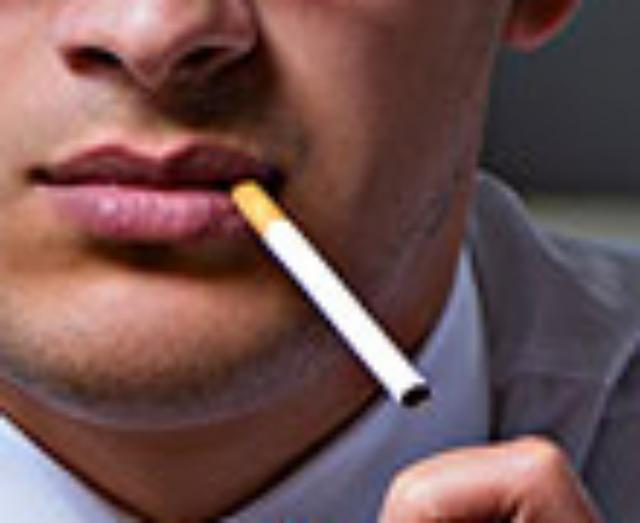Smoking: (215, 163, 430, 411)
